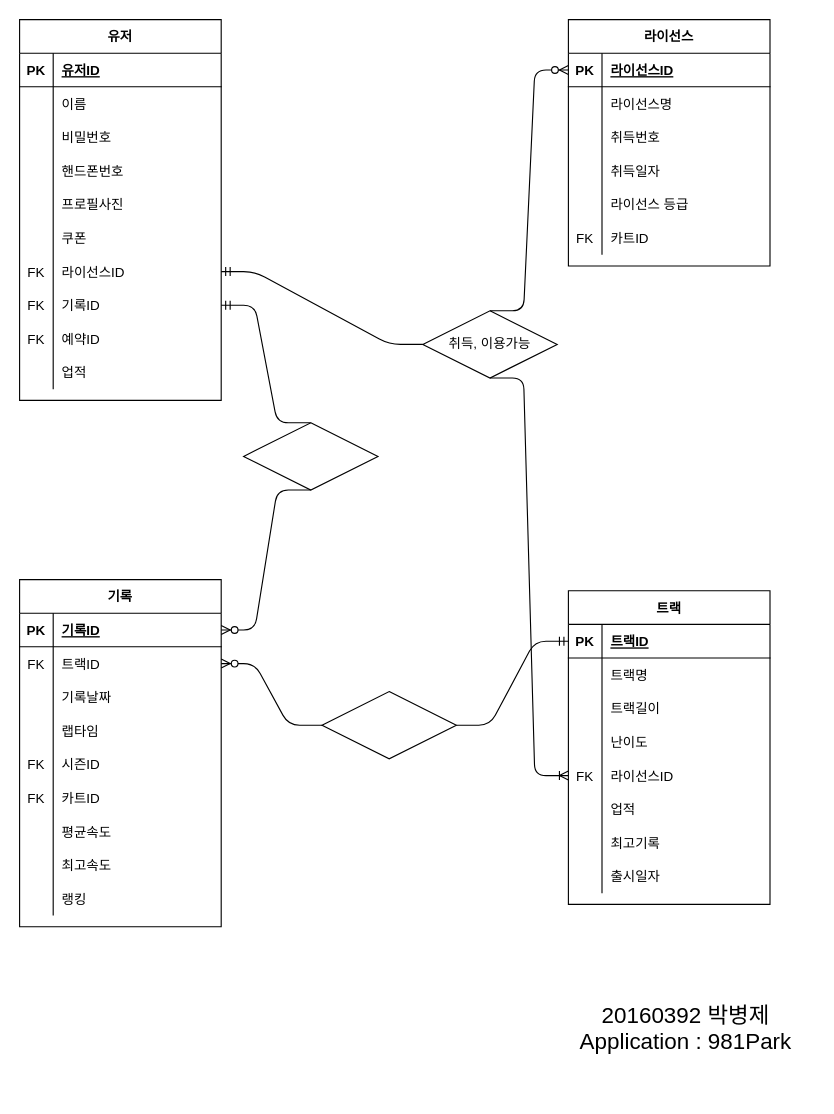
This 834x1114 diagram has some shape labels left out. Here are the shapes that lost their labels. From the top down, the centre of each, then its label:
the point at 310,456: 갱신
the point at 388,724: 누적
